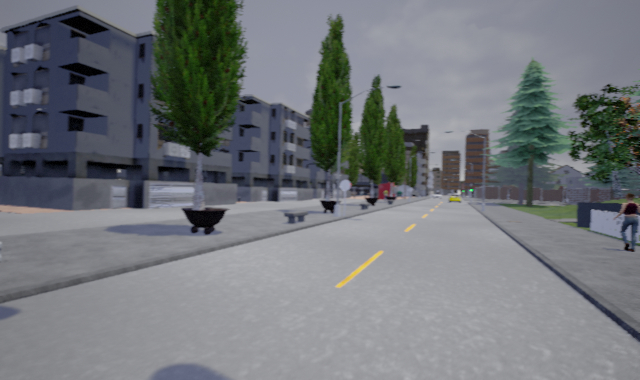pedestrian: (611, 190, 639, 253)
vehicle: (447, 194, 463, 204)
